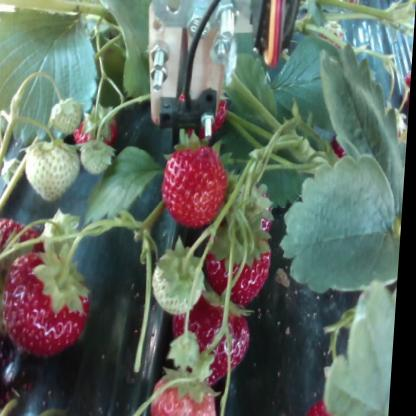ripe: (5, 255, 93, 352), (181, 296, 258, 378), (166, 148, 230, 223), (217, 229, 273, 296), (0, 221, 54, 280), (156, 372, 226, 416), (74, 110, 119, 147)
unripe: (31, 142, 82, 204), (160, 258, 206, 308), (82, 138, 118, 173), (51, 100, 83, 132)
